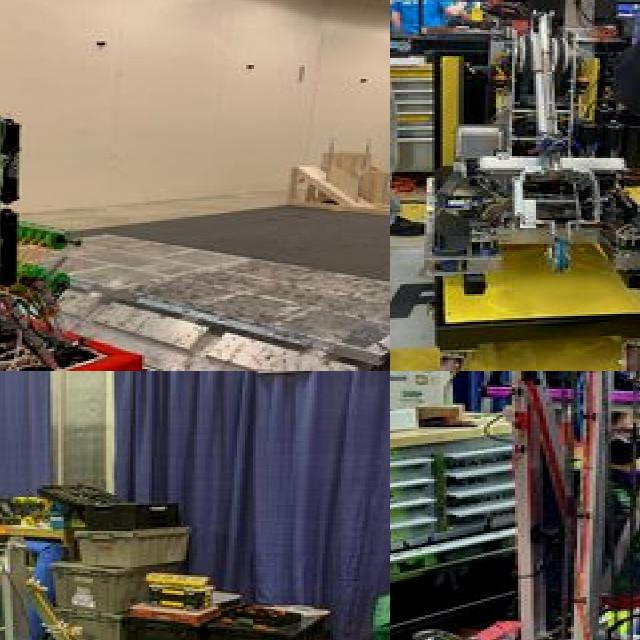FRC-Robots: (390, 0, 640, 329), (0, 6, 191, 371), (390, 371, 640, 640), (0, 470, 239, 640)
